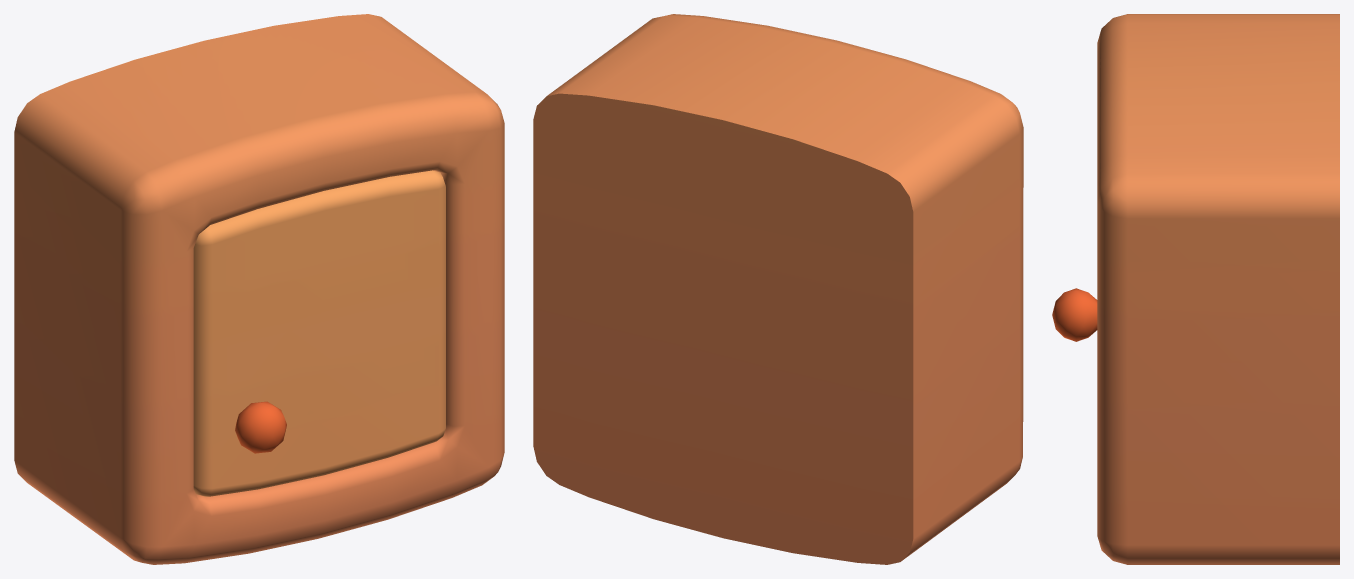
Rendered from Kitchen_D_08.glb.
3 renders of one model, left to right at view 1: azimuth 30°, elevation 25°; view 2: azimuth 150°, elevation 25°; view 3: azimuth 270°, elevation 25°, orthographic.
Visible parts, largest first — view 1: Kitchen_D_08, Kitchen_D_08_Door; view 2: Kitchen_D_08; view 3: Kitchen_D_08, Kitchen_D_08_Door.
Boxes of the visible parts, x1,y1,x2,y2 form: Kitchen_D_08: (14,14,504,564); Kitchen_D_08_Door: (193,170,445,496); Kitchen_D_08: (533,14,1023,564); Kitchen_D_08: (1097,14,1339,564); Kitchen_D_08_Door: (1052,288,1097,341).
Size of the model in its own units: 0.5776 by 0.6075 by 0.3799.
Materials: 1 (1 with a texture image).
